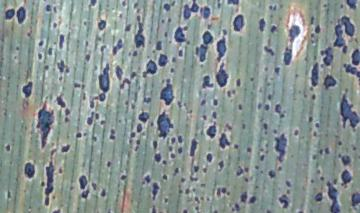tarspot: (37, 103, 54, 148), (340, 96, 360, 131), (326, 181, 342, 213), (157, 112, 173, 138), (160, 79, 175, 106), (274, 134, 288, 161), (343, 62, 360, 84), (332, 22, 346, 47), (99, 64, 111, 93), (341, 15, 355, 37), (217, 62, 229, 87), (215, 37, 227, 62), (134, 21, 145, 48), (45, 163, 54, 196), (319, 46, 333, 66), (232, 12, 245, 32), (287, 23, 300, 43), (173, 26, 187, 44), (194, 44, 208, 62), (218, 131, 231, 148), (111, 38, 124, 55), (323, 74, 337, 89), (277, 194, 290, 210), (310, 63, 319, 86), (24, 161, 36, 178), (283, 46, 293, 66), (341, 167, 352, 185), (350, 48, 360, 67), (22, 81, 33, 98), (202, 29, 213, 46), (201, 75, 215, 88), (16, 6, 26, 24), (200, 4, 211, 20), (189, 138, 198, 157), (205, 124, 217, 138), (147, 60, 158, 75), (78, 174, 88, 189), (56, 58, 66, 73), (138, 112, 150, 124), (56, 94, 66, 108), (115, 64, 123, 81), (152, 182, 160, 199), (351, 192, 360, 207), (4, 8, 15, 20), (262, 45, 274, 56), (158, 53, 168, 66), (183, 3, 191, 19), (258, 18, 266, 34), (347, 1, 358, 12), (96, 19, 107, 30), (266, 168, 277, 179), (58, 33, 65, 50), (342, 153, 351, 166), (274, 102, 283, 115), (123, 22, 133, 33), (191, 1, 200, 13), (143, 172, 151, 185), (314, 192, 324, 202), (43, 196, 51, 208), (155, 40, 163, 52), (98, 92, 107, 102), (162, 2, 171, 12), (217, 160, 225, 171), (205, 151, 212, 163), (61, 144, 70, 153), (81, 189, 90, 198), (128, 71, 137, 80), (191, 165, 200, 174), (154, 153, 162, 163), (44, 3, 52, 13), (99, 188, 107, 198), (143, 96, 153, 104), (227, 1, 240, 7), (86, 115, 93, 126), (270, 23, 277, 34), (274, 65, 281, 76), (240, 192, 247, 203), (314, 24, 321, 35), (248, 195, 256, 204), (131, 49, 139, 58), (221, 26, 228, 36), (6, 189, 13, 199), (136, 123, 143, 133), (119, 173, 129, 180), (89, 100, 96, 110), (47, 47, 54, 57), (170, 135, 177, 145), (324, 146, 331, 156), (129, 130, 136, 140), (318, 146, 324, 157), (176, 146, 184, 154), (292, 129, 300, 137), (142, 69, 149, 78), (151, 140, 158, 149), (89, 1, 98, 8), (212, 97, 219, 106), (91, 181, 98, 190), (177, 134, 184, 143), (264, 103, 271, 112), (259, 154, 266, 163), (262, 122, 269, 131), (215, 188, 222, 197), (99, 45, 108, 52), (225, 123, 232, 132), (236, 168, 243, 177), (235, 78, 241, 88), (178, 48, 184, 58), (257, 101, 263, 111), (212, 110, 218, 120), (309, 15, 315, 25), (240, 121, 246, 131), (37, 38, 44, 46), (74, 132, 82, 139), (84, 54, 91, 62), (199, 98, 206, 106), (285, 180, 292, 188), (119, 83, 126, 91), (82, 91, 87, 102), (5, 143, 11, 152), (37, 51, 43, 60), (237, 102, 243, 111), (246, 145, 252, 154), (133, 2, 139, 11), (337, 151, 343, 160), (235, 203, 241, 212), (312, 52, 318, 61), (52, 208, 62, 213), (74, 82, 81, 89), (109, 134, 116, 141), (121, 1, 128, 8), (342, 46, 348, 54), (162, 173, 168, 181), (171, 55, 177, 63), (169, 66, 175, 74), (110, 126, 116, 134), (233, 143, 239, 151), (311, 93, 317, 101), (123, 78, 131, 84), (58, 166, 63, 175), (95, 112, 100, 121), (226, 89, 231, 98), (274, 3, 279, 12), (189, 176, 198, 181), (64, 116, 70, 123), (40, 180, 46, 187), (43, 64, 49, 71), (52, 22, 58, 29), (171, 153, 177, 160), (314, 121, 320, 128), (92, 136, 98, 143), (202, 114, 208, 121), (248, 76, 254, 83), (134, 145, 140, 152), (177, 101, 183, 108), (263, 65, 269, 72), (333, 178, 339, 185), (107, 160, 112, 168), (163, 31, 168, 39), (151, 205, 156, 213), (268, 3, 273, 11), (53, 6, 58, 14), (267, 93, 272, 101), (185, 187, 190, 195), (264, 208, 272, 213), (167, 146, 173, 152), (313, 130, 317, 139), (50, 150, 56, 156), (136, 15, 142, 21), (216, 3, 222, 9), (320, 175, 326, 181), (180, 177, 186, 183), (253, 183, 259, 189), (65, 108, 70, 115), (308, 116, 313, 123), (222, 187, 227, 194), (162, 159, 167, 166), (131, 103, 136, 110), (279, 114, 286, 119), (312, 154, 317, 161), (174, 167, 179, 174), (294, 71, 299, 78), (340, 3, 345, 9), (232, 89, 237, 95), (160, 19, 166, 24), (27, 32, 32, 38), (83, 21, 88, 27), (58, 75, 63, 81), (101, 120, 106, 126), (277, 165, 282, 171), (203, 167, 208, 173), (164, 197, 169, 203), (244, 177, 249, 183), (244, 167, 249, 173), (200, 196, 205, 202), (316, 169, 321, 175), (338, 139, 342, 146), (182, 209, 189, 213), (296, 210, 305, 213), (167, 18, 172, 23), (310, 33, 315, 38), (83, 132, 88, 137), (323, 3, 328, 8), (178, 189, 183, 194), (255, 165, 260, 170), (201, 183, 206, 188), (259, 147, 264, 152), (15, 47, 21, 51), (119, 13, 123, 19), (136, 139, 140, 145), (195, 196, 199, 202), (311, 178, 315, 184), (206, 196, 210, 202), (273, 129, 277, 134), (353, 146, 357, 151), (195, 205, 199, 210), (192, 188, 196, 192), (231, 208, 235, 212), (214, 210, 219, 213)
